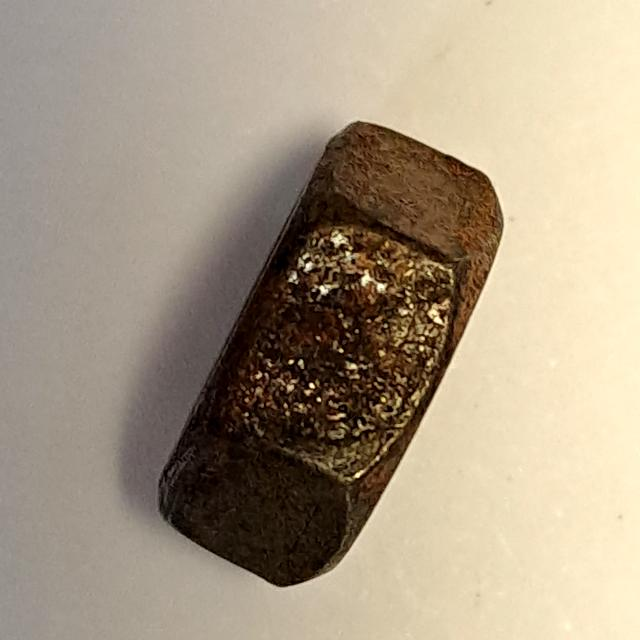Side_Rust: (145, 104, 513, 601)
